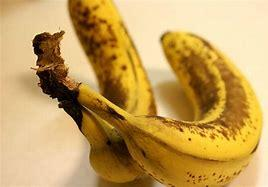banana: (37, 3, 268, 186)
